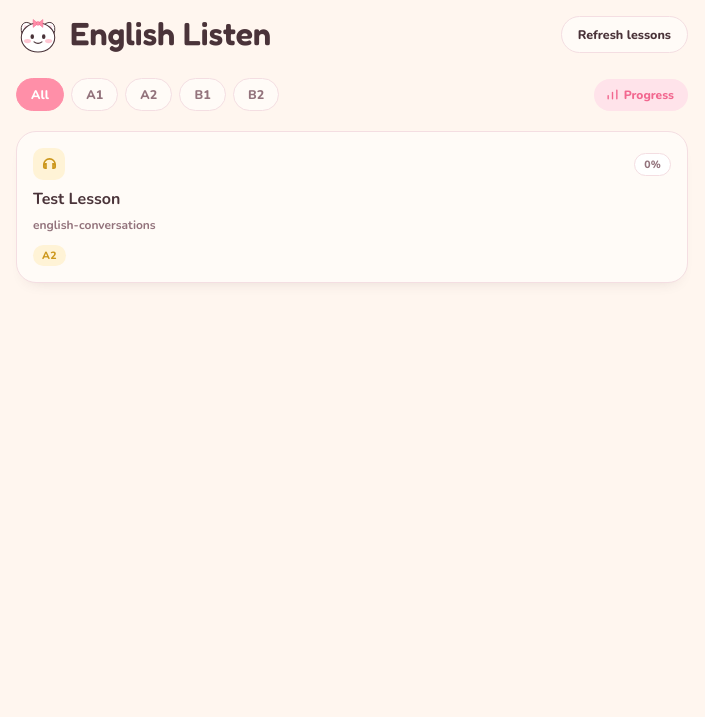
Test: dictation flow (smoke test, no real browser available in this sandbox) › lets a user browse to a lesson, type a dictation attempt, and see the diff + accuracy
Check: the heading "Test Lesson" is shown, box top-left (33, 188), bottom-right (120, 210)
Click the link "0% Test Lesson english-conversations A2": (49, 164) top-left (16, 131), bottom-right (688, 283)
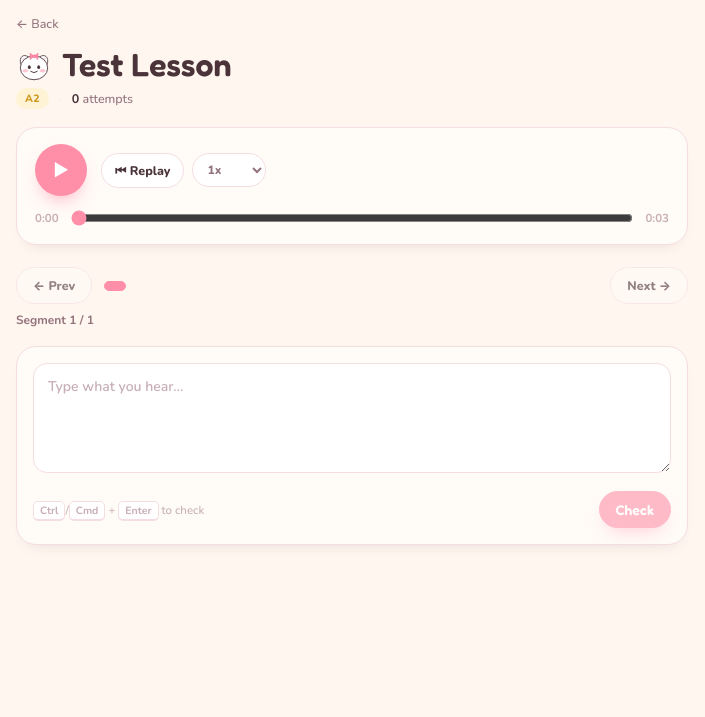
Check: the heading "Test Lesson" is shown, box top-left (62, 46), bottom-right (231, 84)
In the text box with placeholder "Type what you hear...": (352, 418) top-left (33, 363), bottom-right (671, 473), type "hello word today"
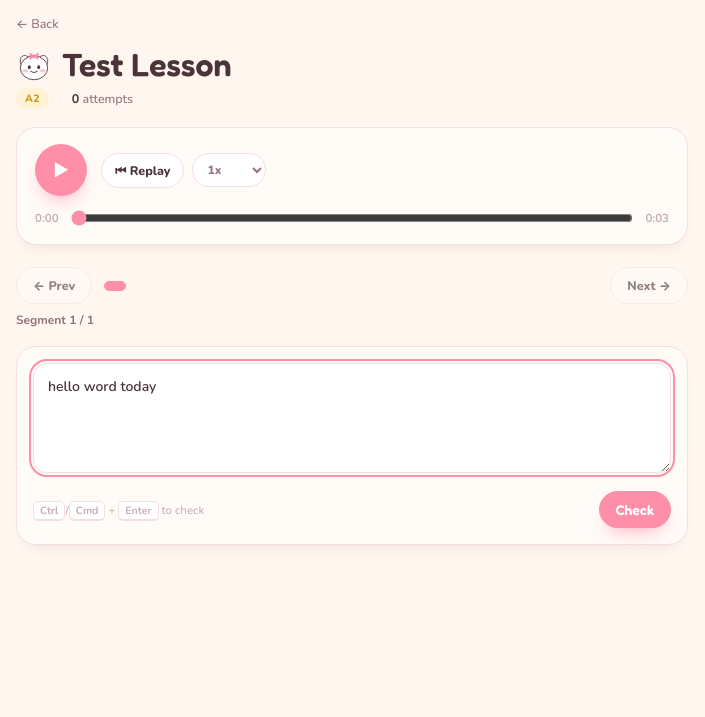
Click the button "Check": (635, 510) top-left (599, 491), bottom-right (671, 528)
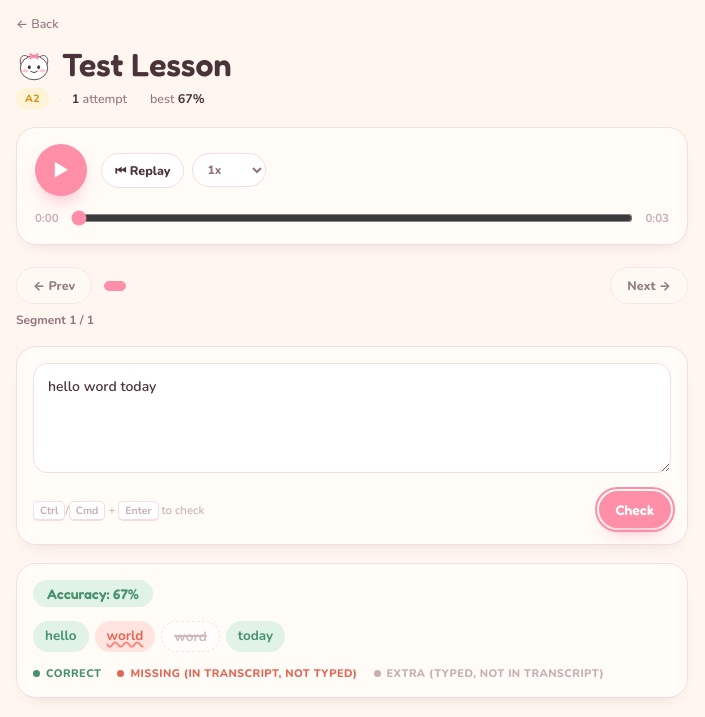
Check: the text "Accuracy: 67%" is shown, box top-left (33, 580), bottom-right (153, 607)
Check: the text "hello" is shown, box top-left (33, 621), bottom-right (88, 652)
Check: the text "world" is shown, box top-left (94, 621), bottom-right (155, 652)
